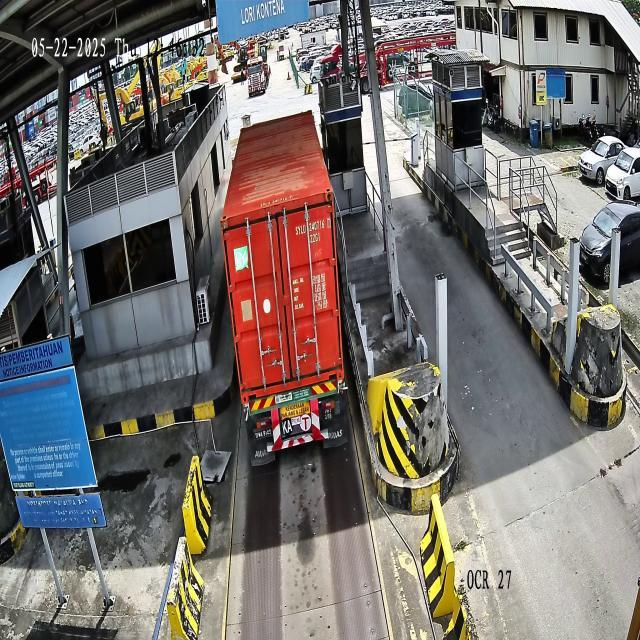ISO: (310, 230, 320, 243)
container_number: (295, 217, 331, 236)
